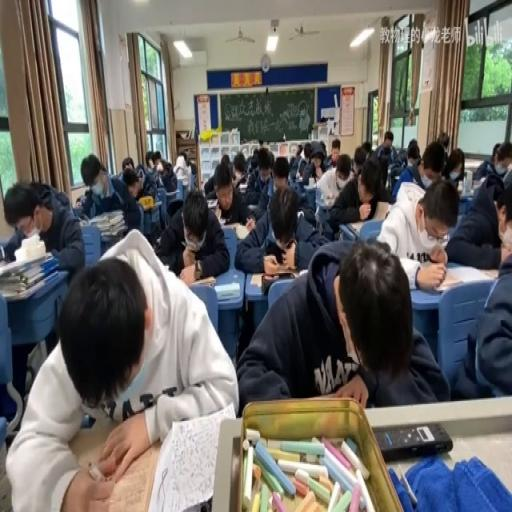calculator: (91, 435, 159, 512), (445, 262, 494, 283), (246, 269, 292, 287), (367, 199, 390, 221), (214, 282, 240, 300), (219, 222, 248, 237), (346, 218, 372, 234), (302, 180, 316, 208), (188, 273, 214, 286), (315, 192, 332, 208), (470, 176, 484, 192), (76, 213, 90, 225), (204, 196, 218, 206), (297, 266, 309, 276), (180, 128, 192, 138), (180, 175, 190, 186), (296, 174, 306, 184), (150, 198, 162, 206), (247, 203, 257, 212), (307, 176, 314, 188), (160, 262, 170, 270), (216, 216, 226, 223)
paper: (10, 225, 236, 509), (239, 234, 443, 412), (379, 170, 459, 288), (234, 180, 330, 274), (0, 179, 83, 286), (454, 246, 511, 401), (155, 186, 229, 280), (444, 172, 511, 269), (326, 152, 392, 236), (78, 154, 140, 238), (243, 148, 275, 209), (472, 141, 511, 185), (296, 140, 331, 186), (202, 152, 234, 196), (419, 142, 445, 184), (441, 148, 465, 190), (373, 130, 395, 174), (155, 156, 178, 192), (272, 155, 290, 192), (231, 150, 247, 188), (138, 173, 157, 202), (122, 174, 141, 199), (390, 145, 408, 171), (406, 141, 420, 162), (438, 130, 450, 152), (122, 155, 134, 171), (491, 142, 501, 158), (180, 152, 190, 168), (146, 151, 155, 168), (136, 165, 145, 182), (360, 141, 370, 156), (187, 161, 197, 176), (331, 145, 340, 161), (304, 142, 310, 160), (320, 141, 326, 158), (294, 144, 302, 156), (222, 154, 230, 164), (75, 196, 83, 206), (258, 138, 265, 149)
person: (373, 420, 453, 460), (416, 283, 442, 294)
